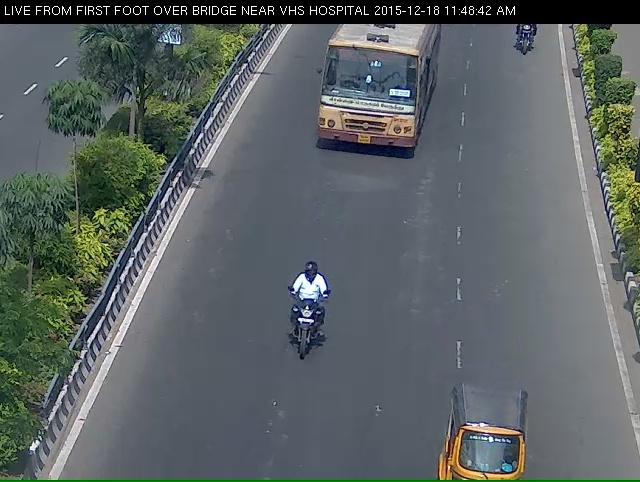Bus: (307, 23, 428, 171)
Car: (438, 400, 541, 478)
Person: (272, 287, 332, 393), (512, 24, 539, 61)
